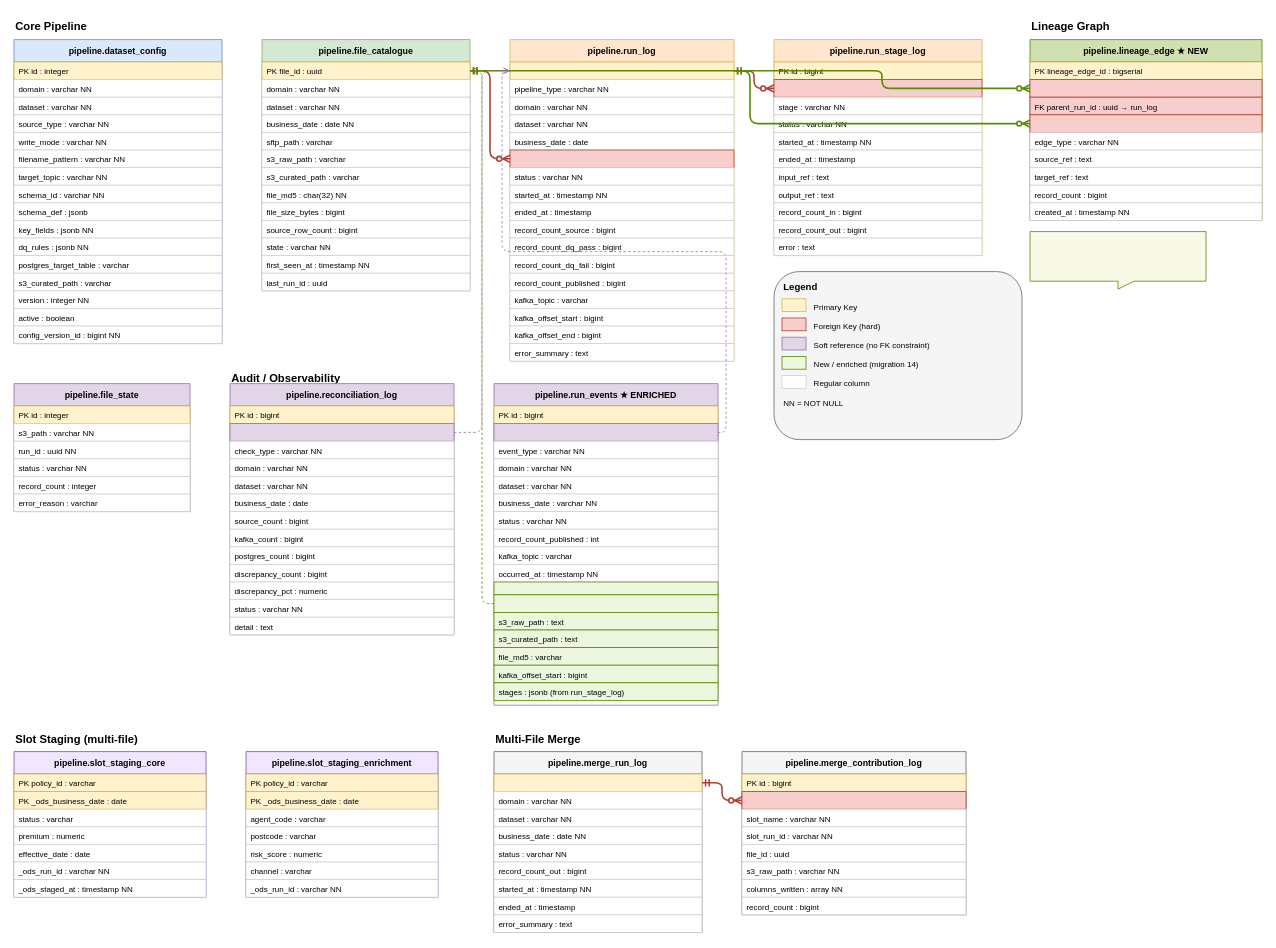
This 1276x948 diagram has some shape labels left out. The shapes that lost their labels are listed below. From the top down, each one's centre as x and y in pixels, then its label:
At [621,70]: "PK run_id : uuid".
At [877,88]: "FK run_id : uuid → run_log".
At [1145,88]: "FK child_run_id : uuid → run_log".
At [1145,123]: "FK parent_file_id : uuid → file_catalogue".
At [621,158]: "FK file_id : uuid → file_catalogue".
At [1117,260]: "edge_type values: • raw_to_curated • curated_to_kafka • curated_to_postgres".
At [341,432]: "~FK run_id : uuid (→ run_log)".
At [605,432]: "~FK run_id : varchar (→ run_log)".
At [605,588]: "── migration 14 additions ──".
At [605,603]: "~FK file_id : varchar → file_catalogue".
At [597,782]: "PK merge_run_id : uuid".
At [853,800]: "FK merge_run_id : uuid → merge_run_log".
